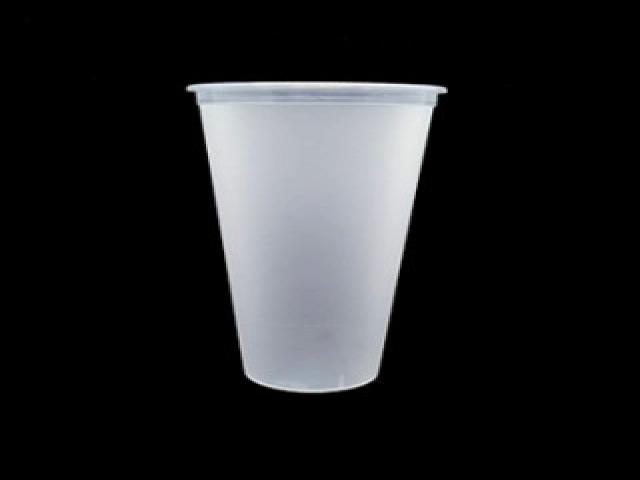cup: (188, 82, 446, 391)
